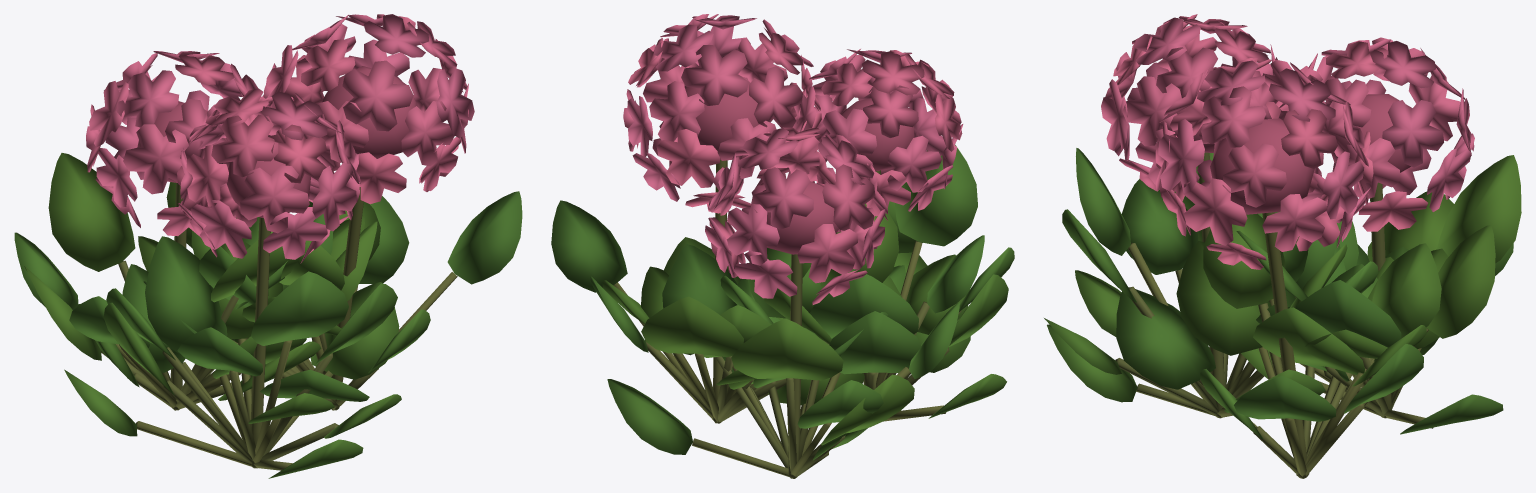
File: potfill_geranium_pink.glb
3 views of the same model, side by side, from view 1: azimuth 30°, elevation 25°; view 2: azimuth 150°, elevation 25°; view 3: azimuth 270°, elevation 25° (orthographic). The views are drawn at different scales.
Parts seen in each view (by area): view 1: Sammel Pflanze, Sammel Putz; view 2: Sammel Pflanze, Sammel Putz; view 3: Sammel Pflanze, Sammel Putz.
Part boxes in pixels (x1,y1,x2,y2): Sammel Pflanze: (14,14,522,478); Sammel Putz: (101,183,457,470); Sammel Pflanze: (551,14,1014,460); Sammel Putz: (613,160,961,478); Sammel Pflanze: (1044,14,1521,438); Sammel Putz: (1115,152,1432,478).
Size of the model in its own units: 0.4019 by 0.34 by 0.3509.
